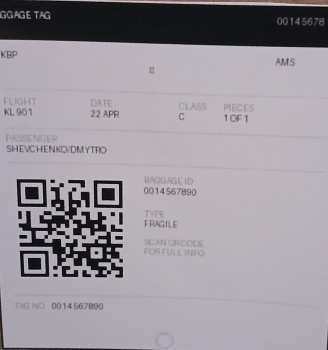LPN_bottom: (49, 299, 106, 312)
LPN_right: (140, 183, 198, 199)
